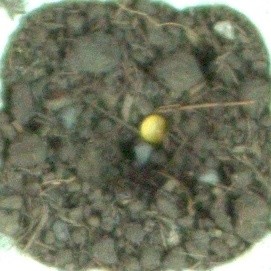chilli seed: (139, 111, 176, 148)
